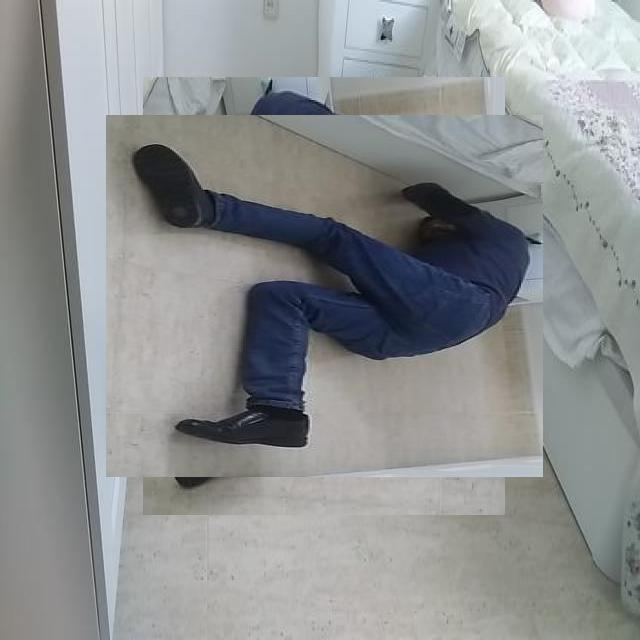Fall: (135, 124, 568, 469)
